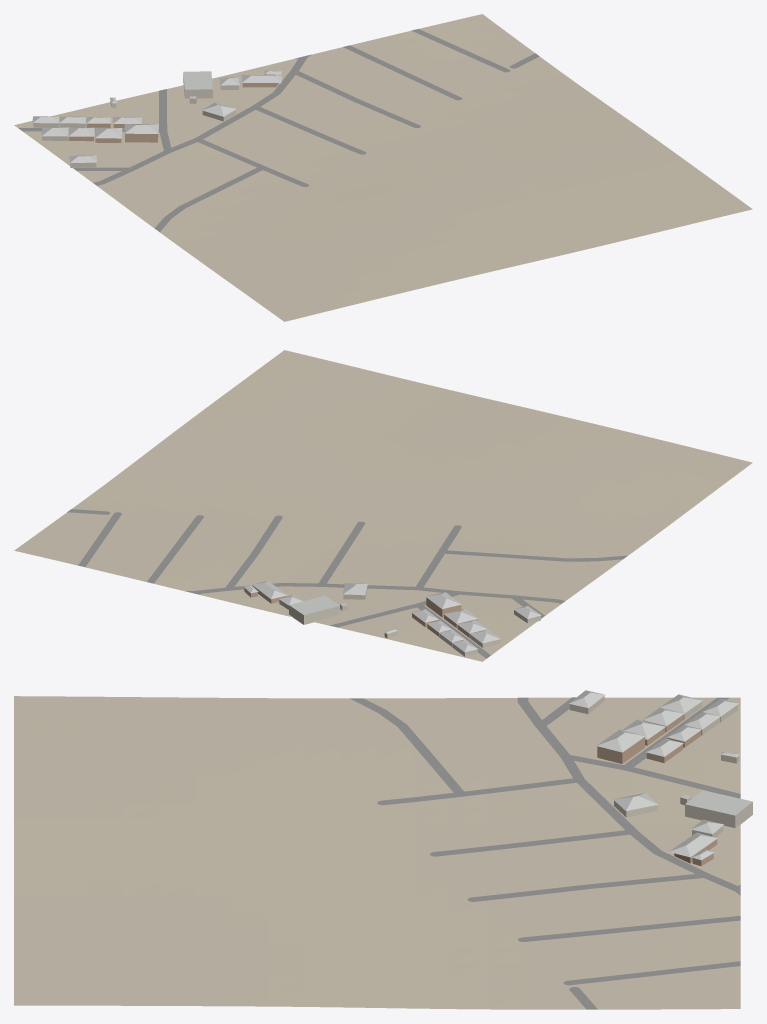
File: bolak_5_5.glb
3 views of the same model, one above another, from view 1: azimuth 30°, elevation 25°; view 2: azimuth 150°, elevation 25°; view 3: azimuth 270°, elevation 25° (orthographic). The views are drawn at different scales.
Visible parts, largest first — view 1: Yer_Tuproq-col, Yol_Mahalla-col, Tom_Shifer, Devor_Suvoq-col, Devor_Gisht-col; view 2: Yer_Tuproq-col, Yol_Mahalla-col, Tom_Shifer, Devor_Suvoq-col, Devor_Gisht-col; view 3: Yer_Tuproq-col, Yol_Mahalla-col, Tom_Shifer, Devor_Suvoq-col, Devor_Gisht-col.
Boxes of the visible parts, left/top/right/bottom form: Yer_Tuproq-col: left=14, top=14, right=752, bottom=321; Yol_Mahalla-col: left=18, top=29, right=539, bottom=231; Tom_Shifer: left=32, top=70, right=282, bottom=162; Devor_Suvoq-col: left=33, top=73, right=238, bottom=167; Devor_Gisht-col: left=68, top=74, right=281, bottom=142; Yer_Tuproq-col: left=14, top=350, right=752, bottom=661; Yol_Mahalla-col: left=67, top=509, right=627, bottom=658; Tom_Shifer: left=244, top=581, right=541, bottom=652; Devor_Suvoq-col: left=279, top=587, right=540, bottom=656; Devor_Gisht-col: left=244, top=585, right=477, bottom=637; Yer_Tuproq-col: left=14, top=696, right=740, bottom=1009; Yol_Mahalla-col: left=349, top=697, right=740, bottom=1009; Tom_Shifer: left=569, top=690, right=752, bottom=860; Devor_Suvoq-col: left=569, top=696, right=752, bottom=837; Devor_Gisht-col: left=597, top=714, right=717, bottom=865.
Size of what is drawn, in the model's own units: 401 by 13.26 by 407.
